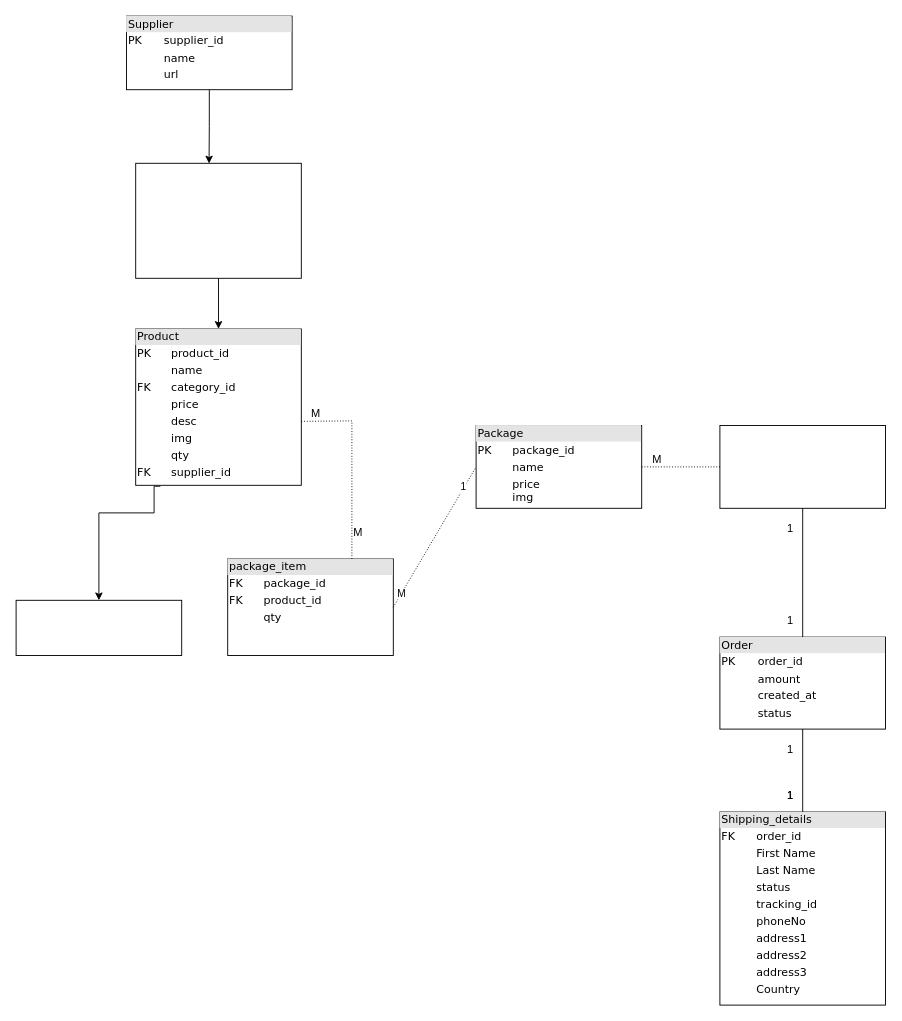
The diagram is 902 pixels wide and 1021 high, and some of its shapes have lost their labels. Here are the shapes that lost their labels. From the top down, the centre of each, then its label:
pixel 218 220: supply_record PK record_id FK supplier_id product_id qty created_at status
pixel 802 466: Order_details FK order_id FK package_id qty
pixel 98 627: Category PK category_id FK1 name
